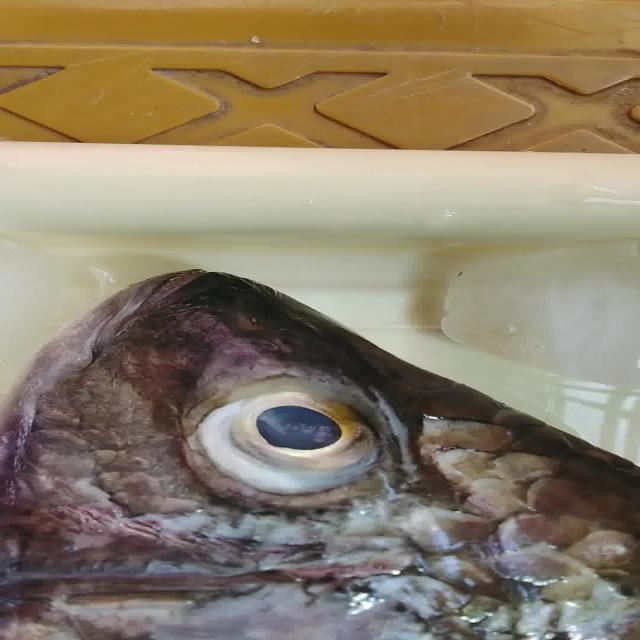Fresh: (176, 374, 411, 496)
